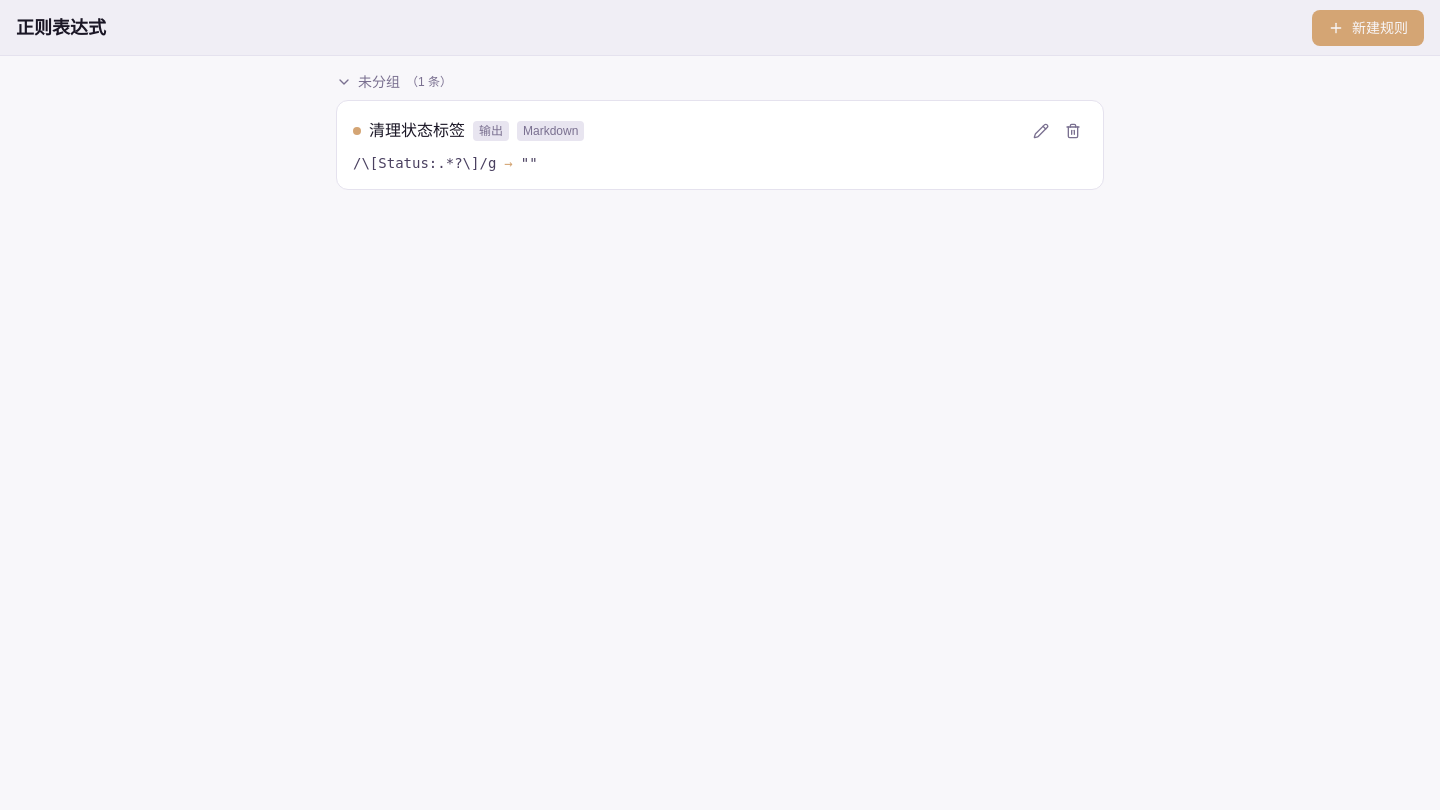
Test case: RegexPage › UEX-P1-27：删除确认文案包含规则实际作用范围与处理阶段
Expected: the text "清理状态标签" is shown, left=369, top=119, right=465, bottom=143
Step 1. Click the button titled "删除" → point(1073, 131), box left=1059, top=117, right=1087, bottom=145
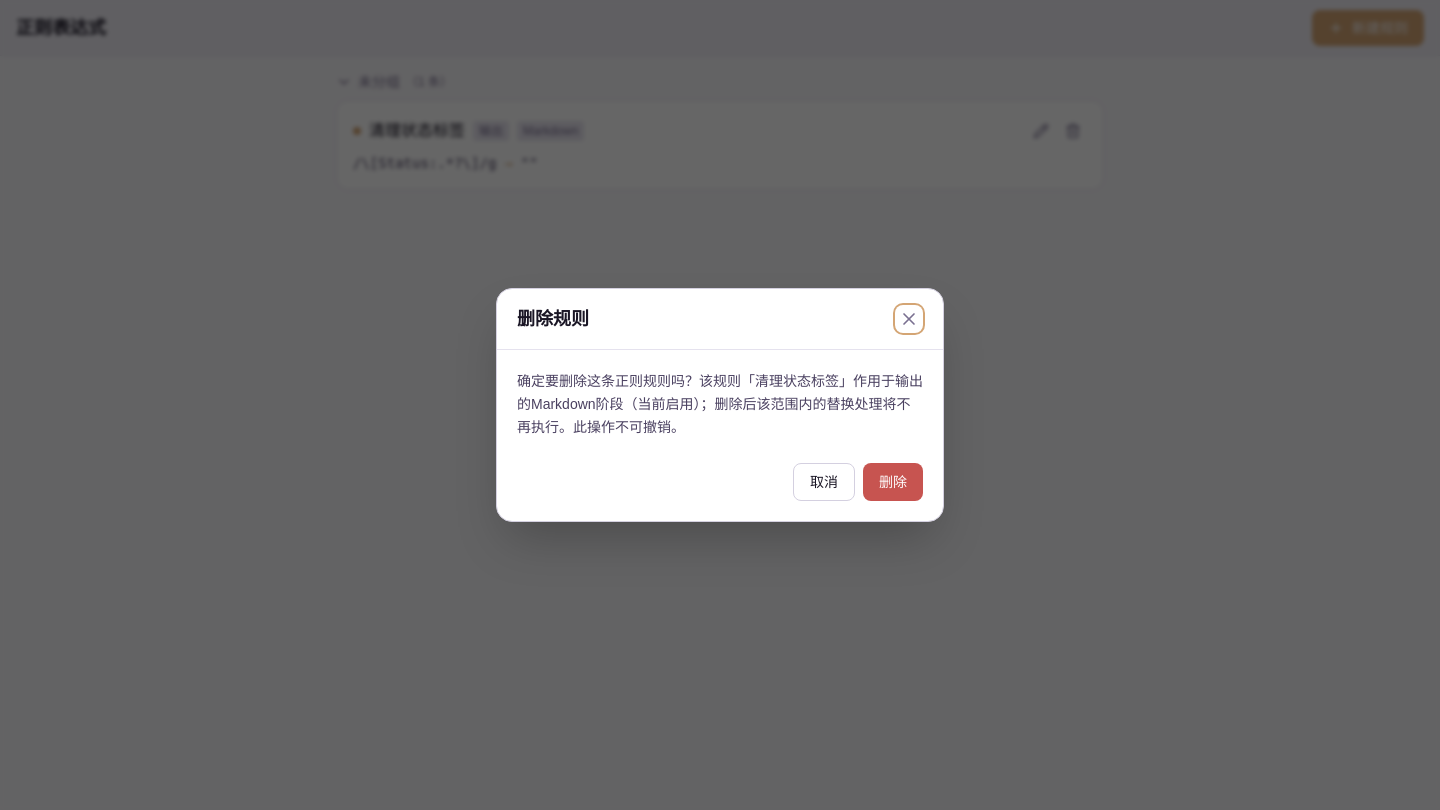
Now the text "作用于" shows "「清理状态标签」", box left=517, top=373, right=923, bottom=435
Now the text "作用于" shows "输出", box left=517, top=370, right=923, bottom=439
Now the text "作用于" shows "Markdown", box left=517, top=373, right=923, bottom=435
